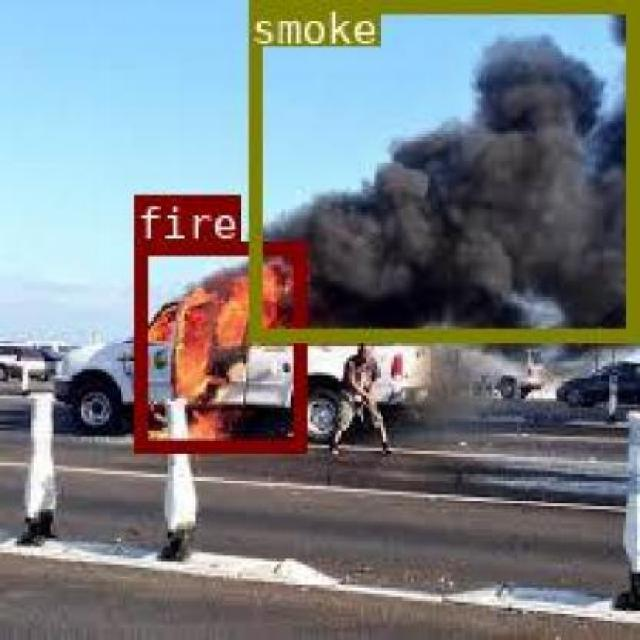CIV_Plane: (132, 241, 303, 448)
Fire: (132, 241, 303, 448)
Smoke: (245, 0, 638, 276)
